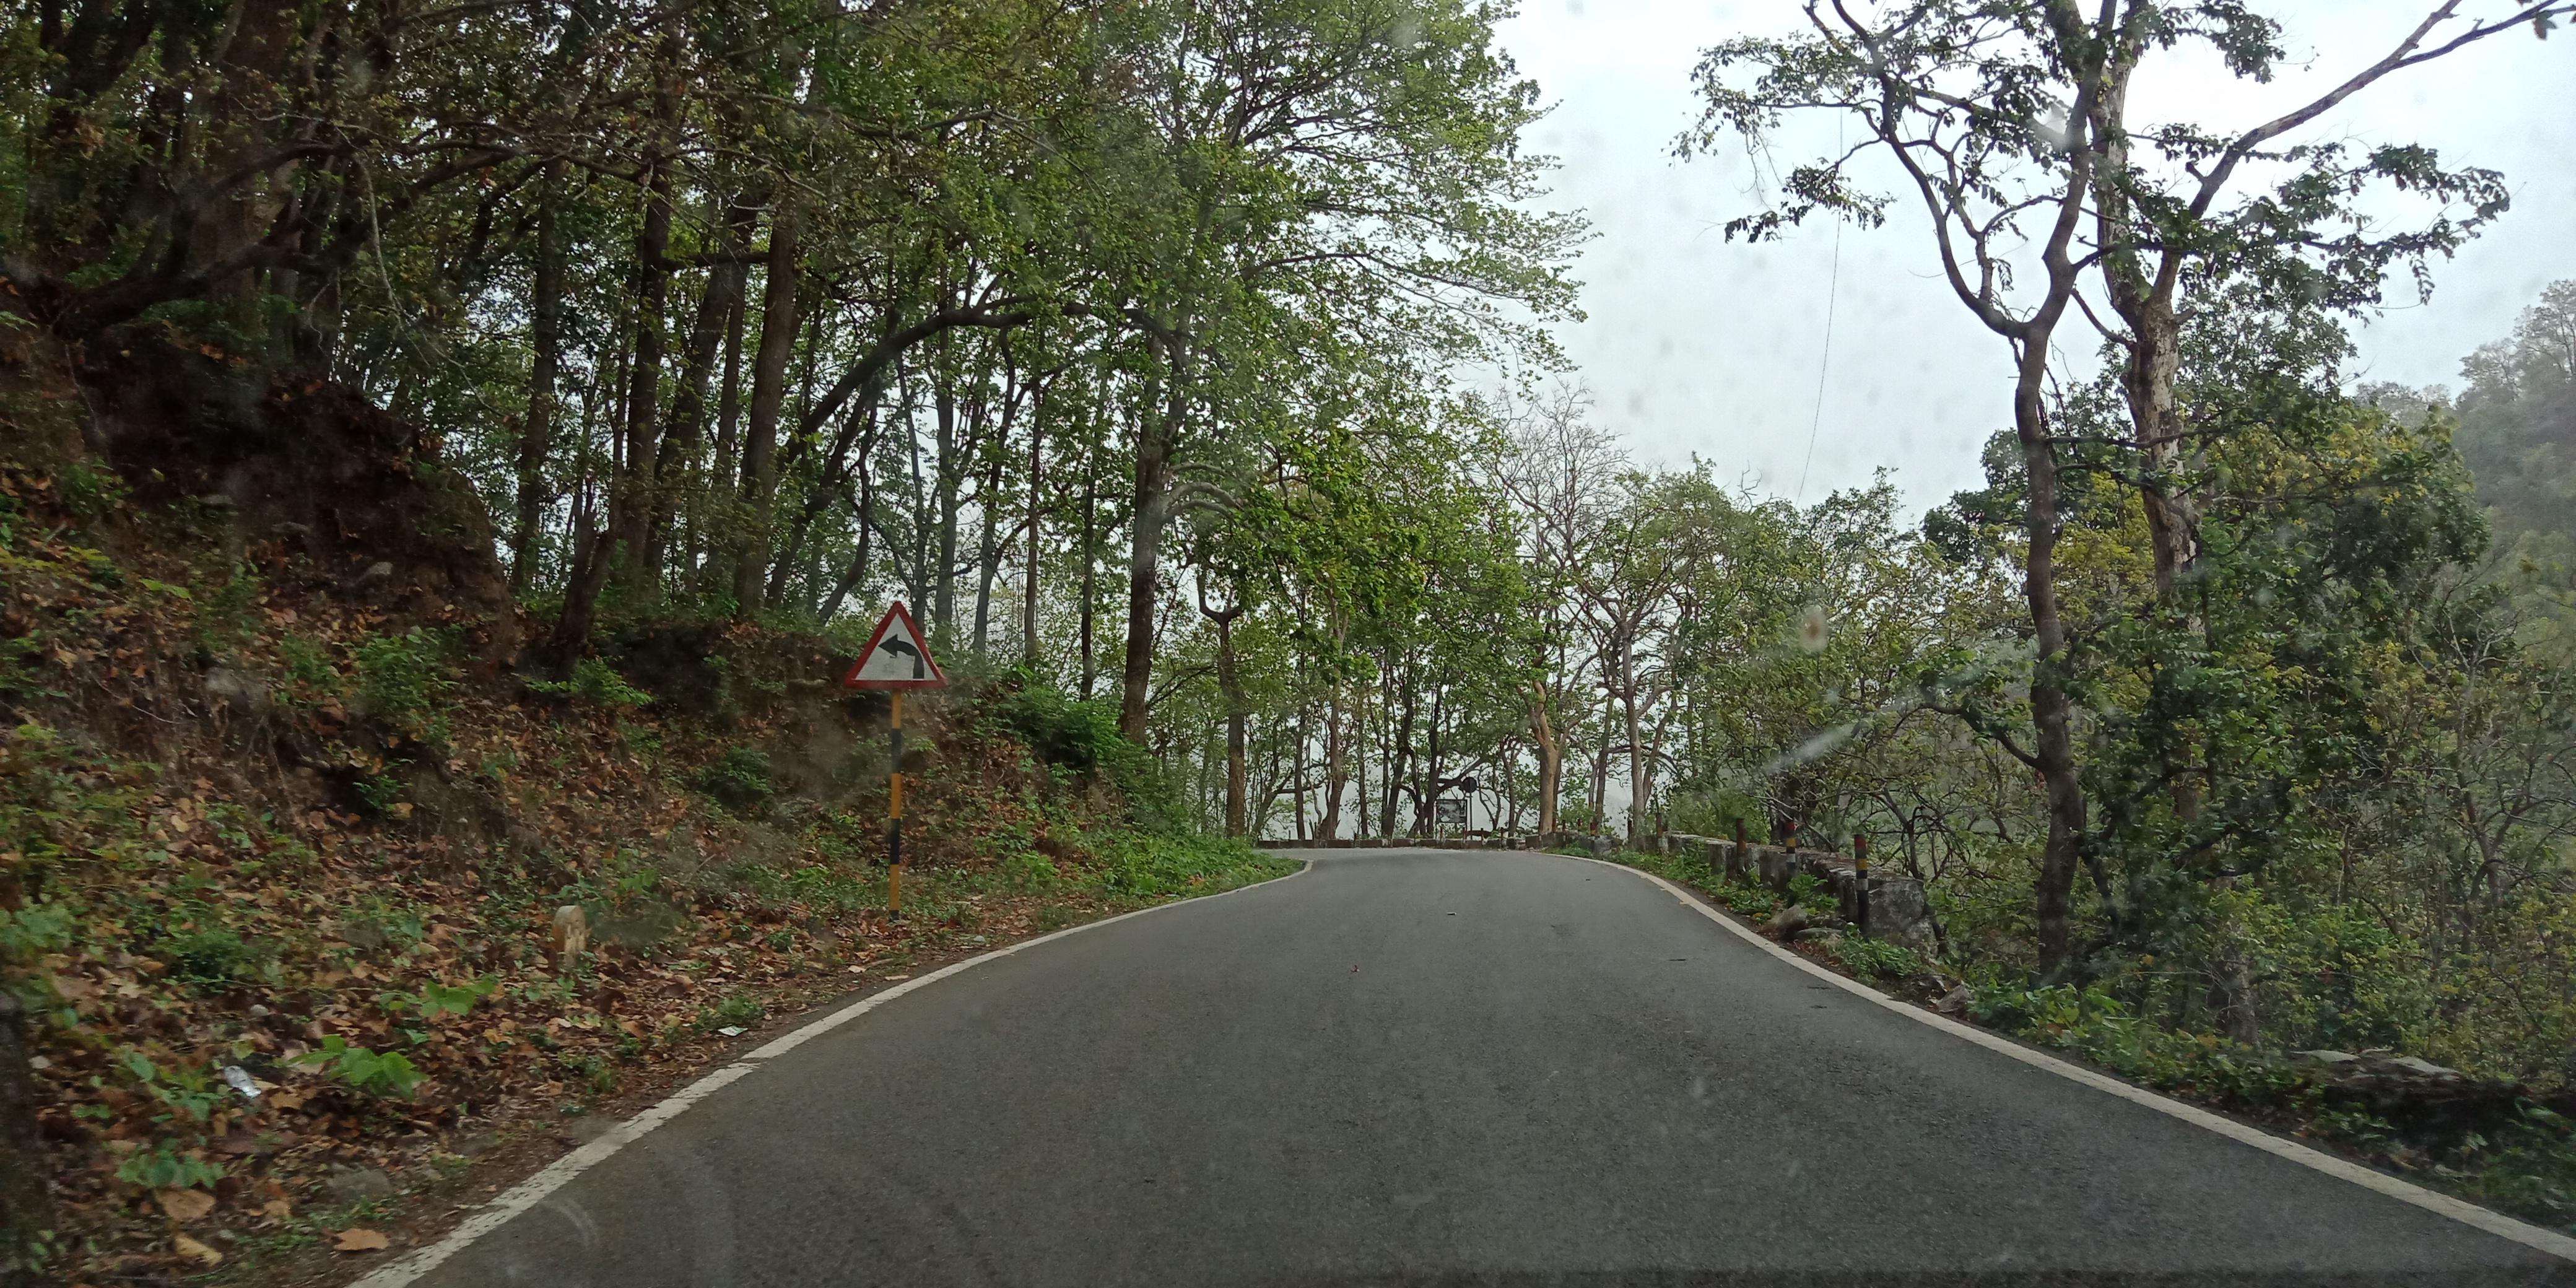traffic_sign: (841, 603, 946, 690)
